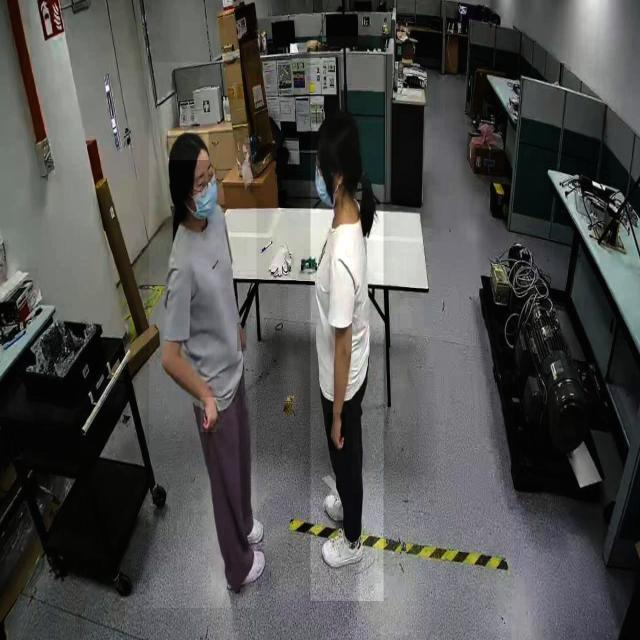face_mask: (189, 164, 227, 220)
hand_noglove: (328, 412, 346, 452), (201, 397, 217, 433), (237, 323, 247, 352)
head_nohelmet: (318, 108, 360, 140), (168, 131, 209, 161)
person: (149, 62, 257, 609), (310, 36, 384, 602)
shoes: (319, 527, 368, 573), (224, 546, 264, 589), (321, 493, 355, 527)
